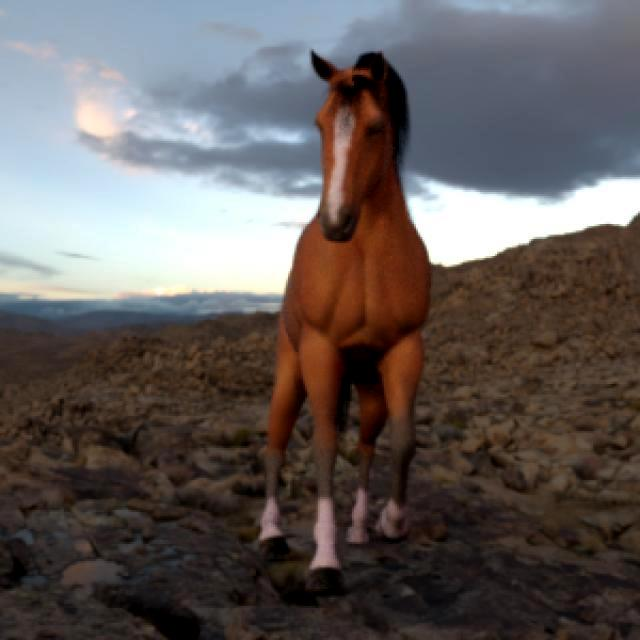horse: (260, 52, 430, 593)
